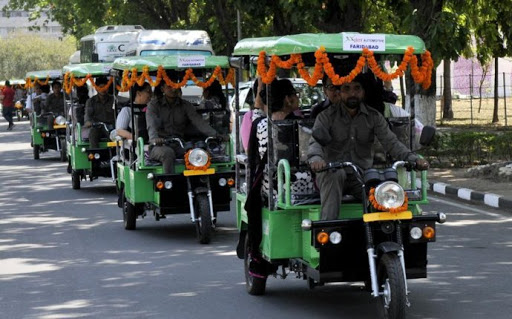auto rickshaw: (233, 34, 445, 319), (113, 58, 233, 243), (62, 63, 114, 191), (25, 71, 66, 161)
bus: (79, 24, 216, 47)
